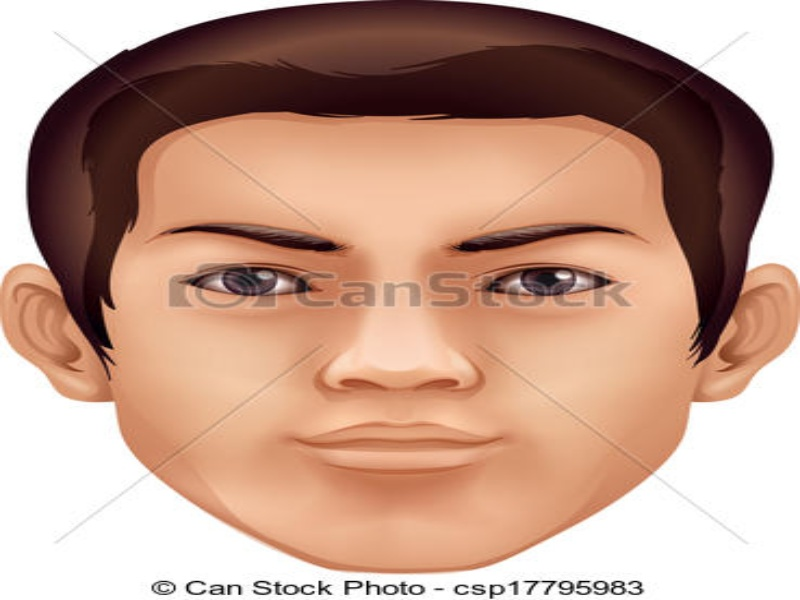face: (142, 145, 667, 530)
